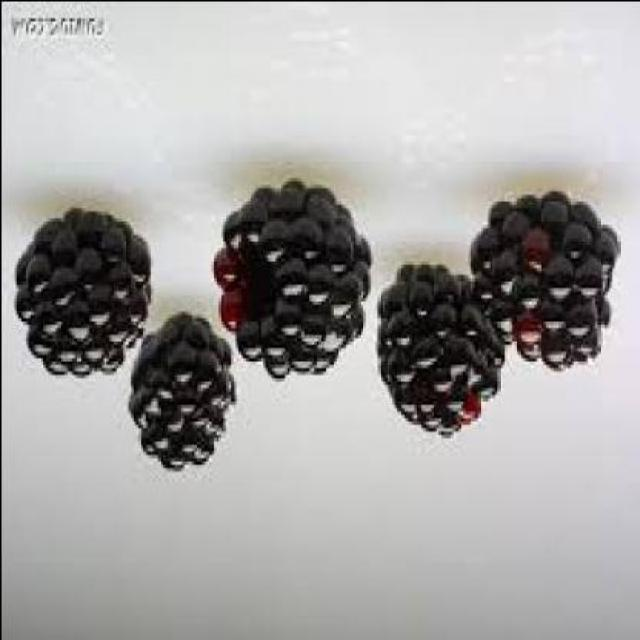BIODEGRADABLE: (212, 180, 374, 380), (469, 194, 620, 377), (17, 209, 152, 377), (380, 263, 506, 440), (129, 313, 237, 473)
